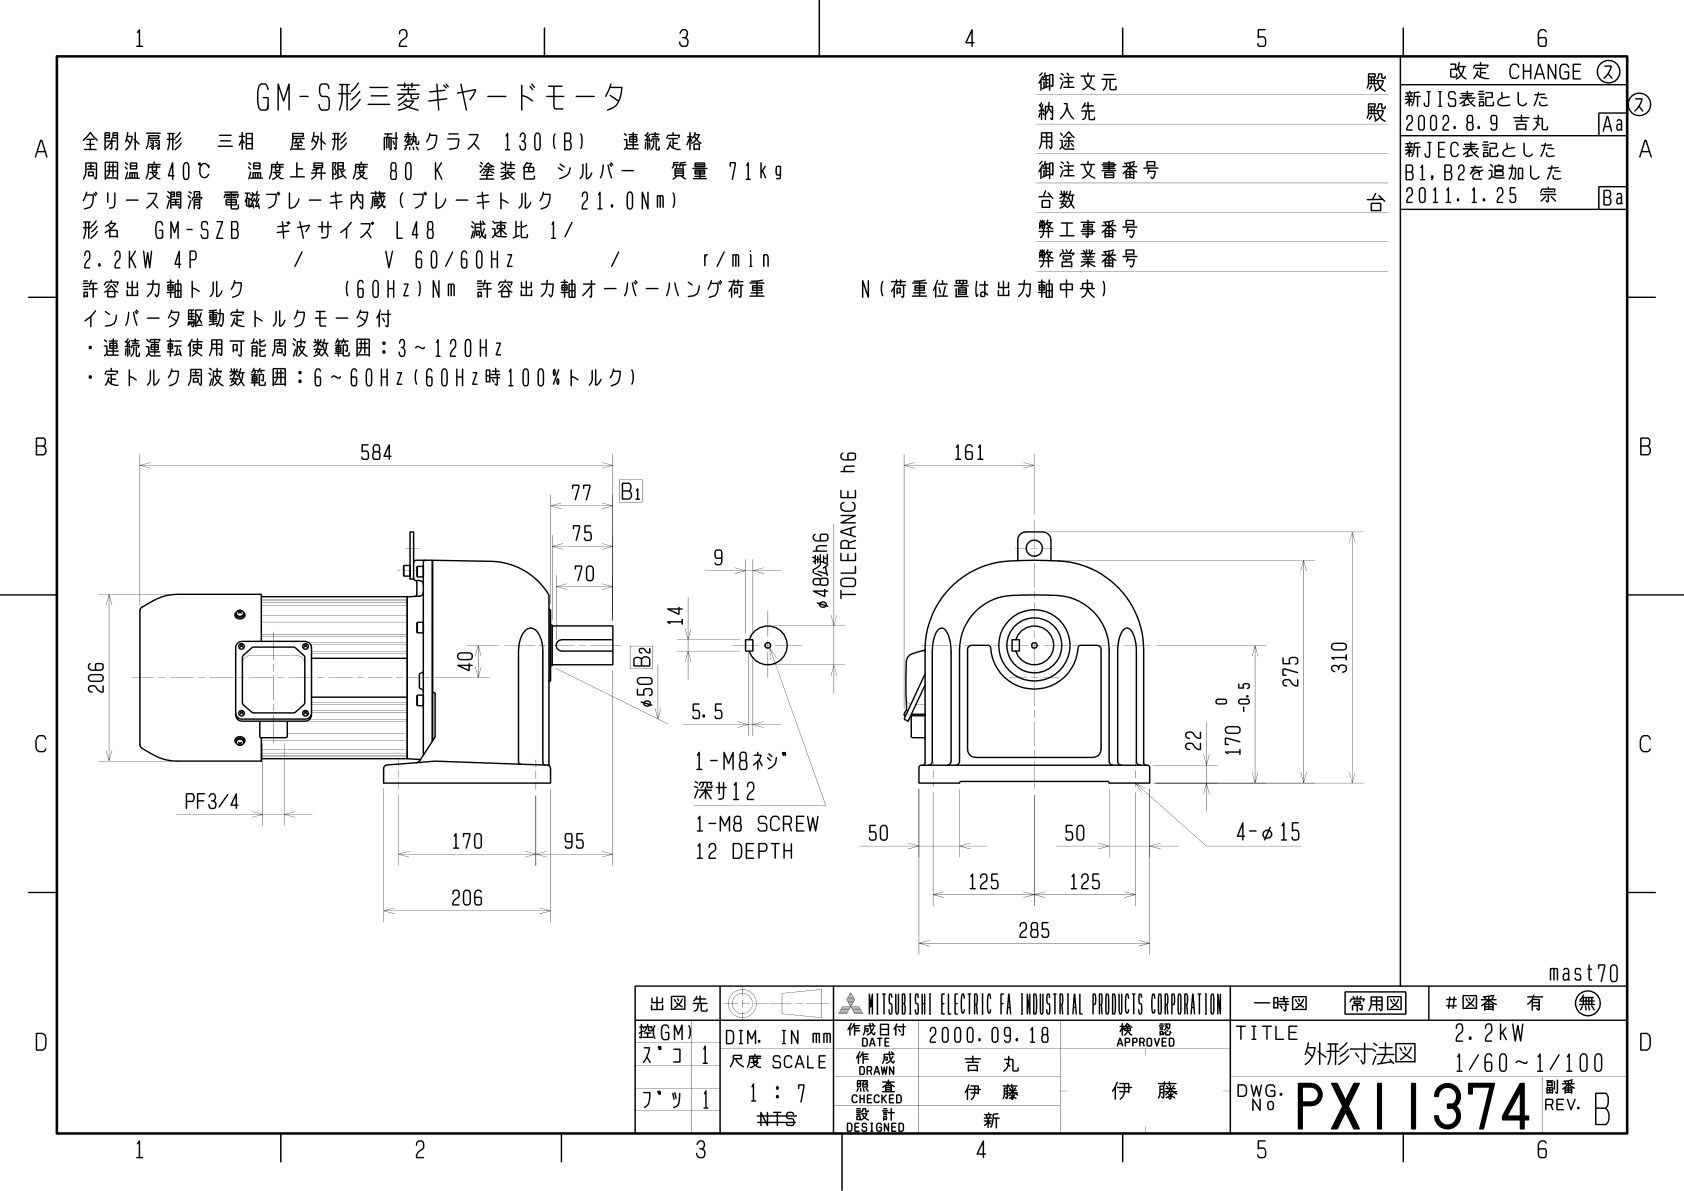GM_S_インバタ屋外＿三相_脚: (61, 416, 1389, 965)
